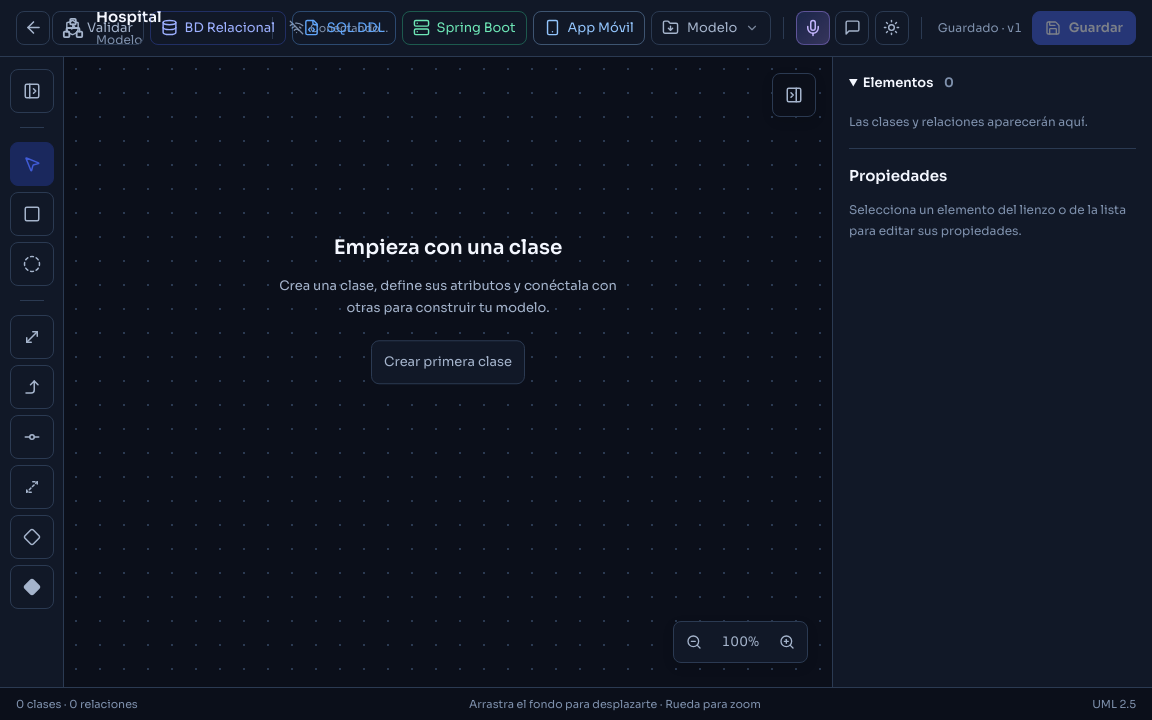
it: carga una sesión, crea una clase y guarda el AST editado
Check: the heading "Hospital" is shown, box [96,7,162,26]
Click the button named "Nueva Clase" at point(32, 214), box [10,192,54,236]
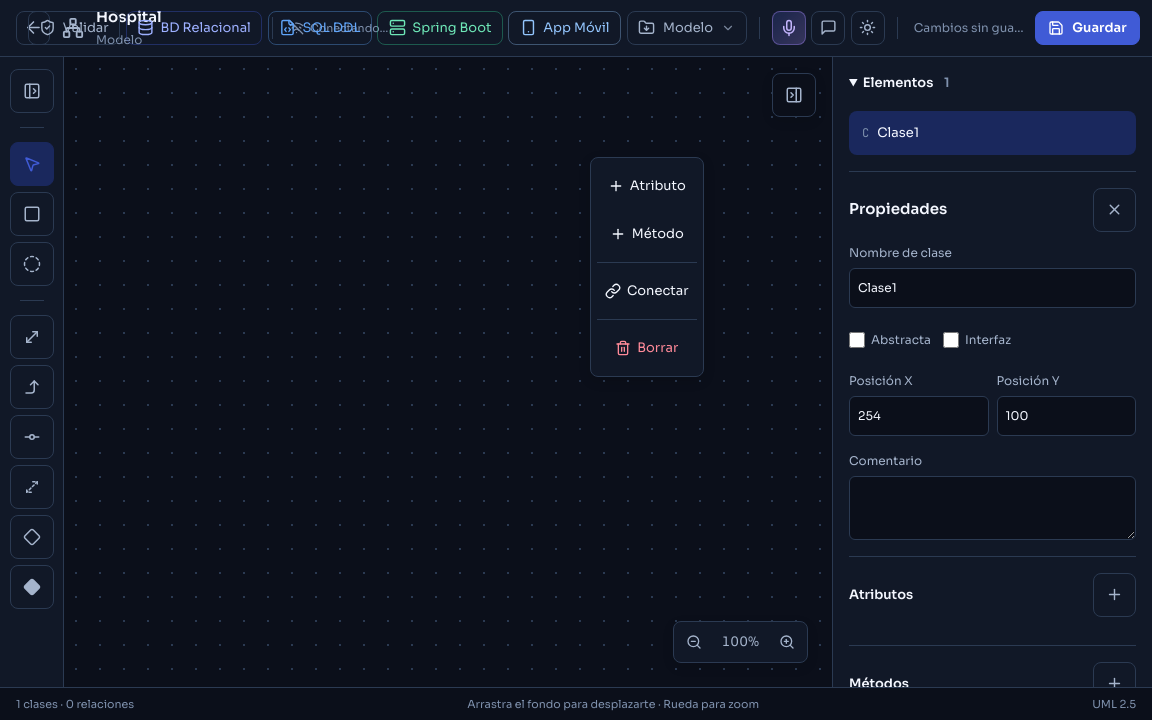
Replace the text in the field labelled "Nombre de clase" with "Paciente" at point(992, 288), box [849,268,1136,308]
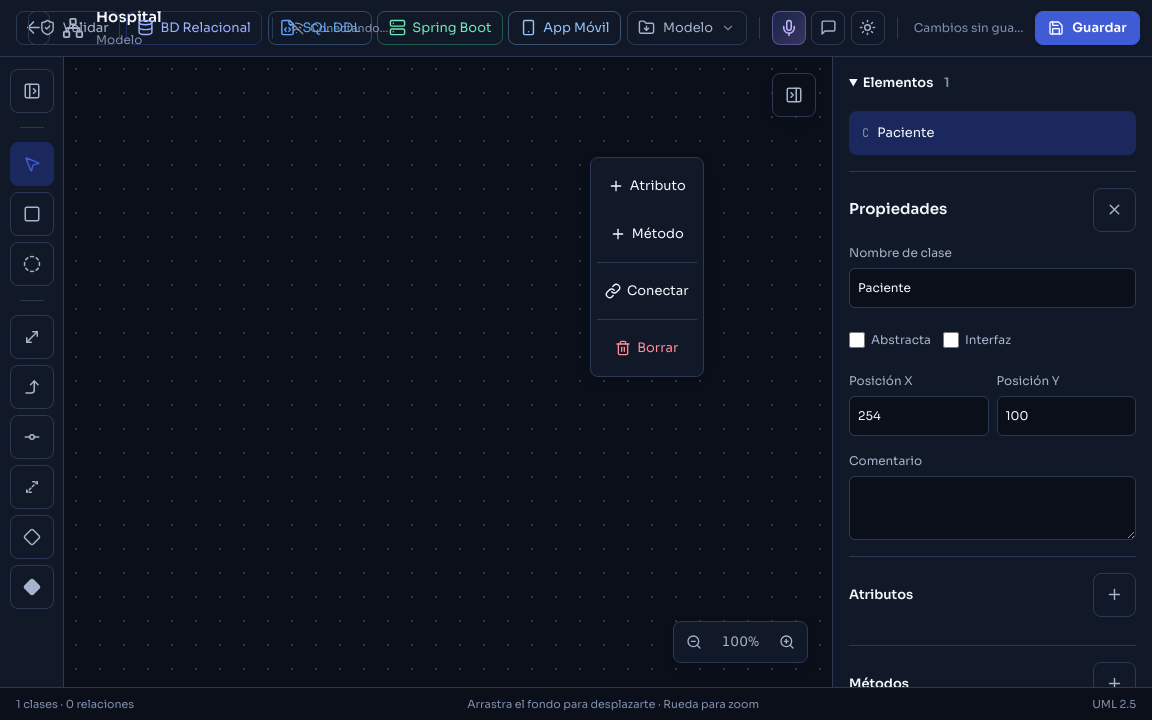
Click the button named "Añadir atributo" at point(1114, 595), box [1093,573,1136,617]
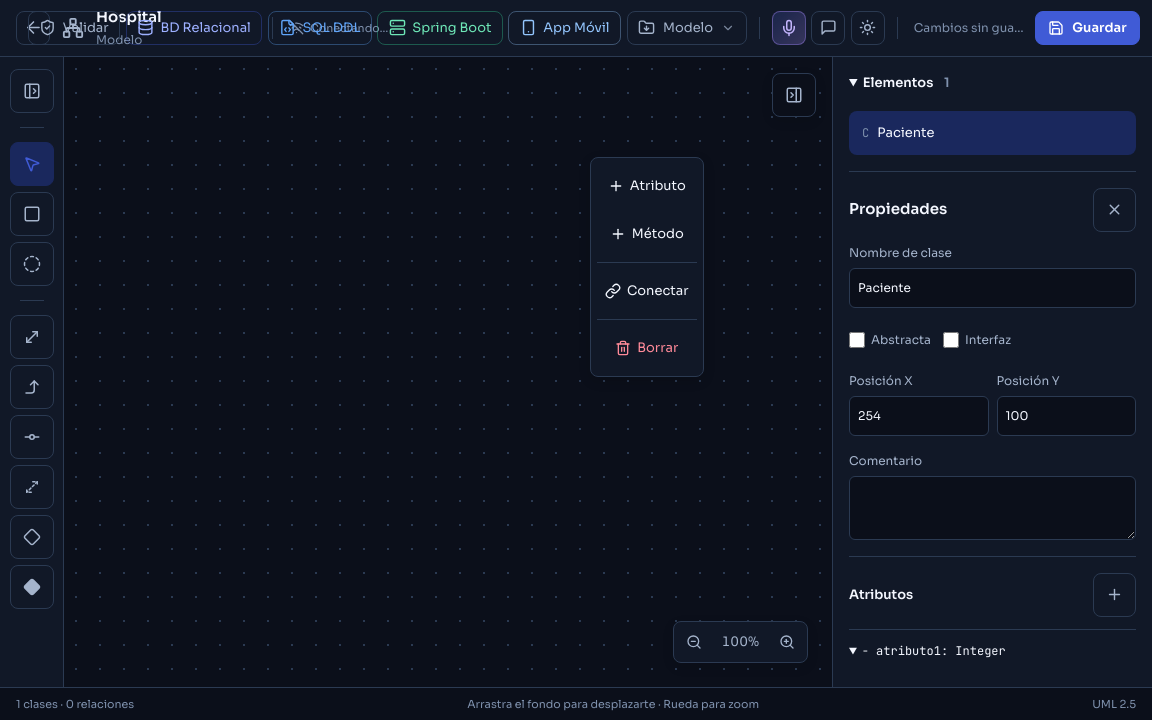
Click the button with aria-label "Guardar diagrama" at point(1087, 28), box [1035,11,1140,45]
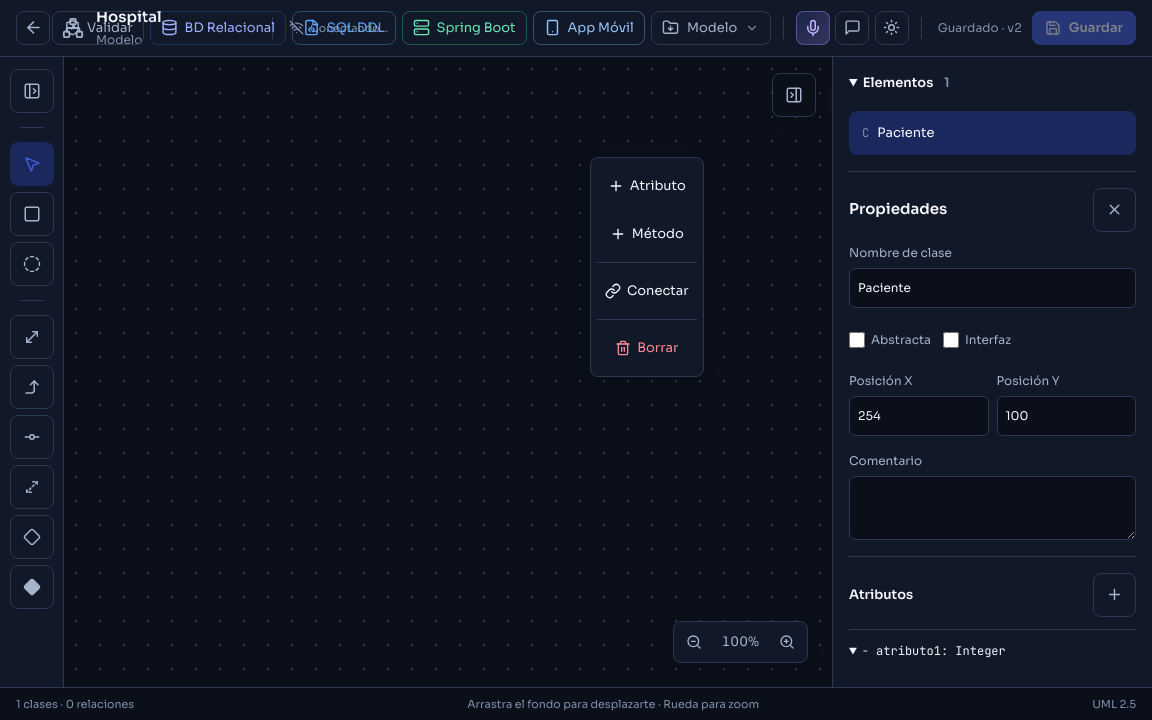
Check: the text "Guardado · v2" is shown, box [934,19,1026,37]
